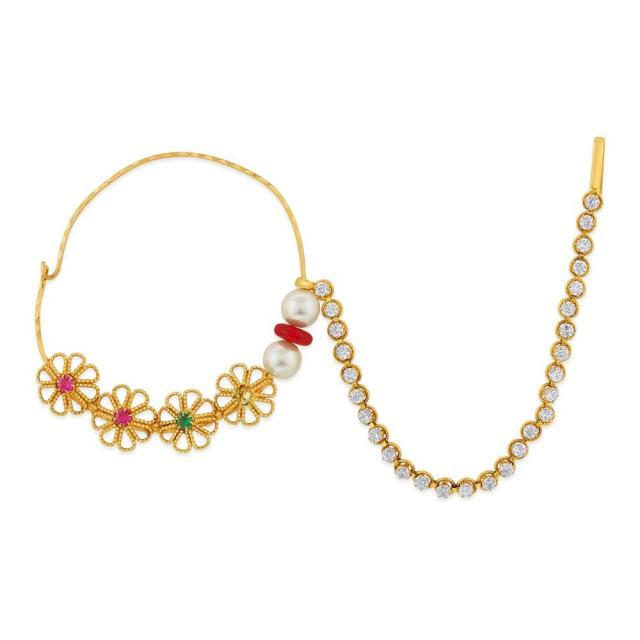missing gem: (233, 385, 254, 405)
